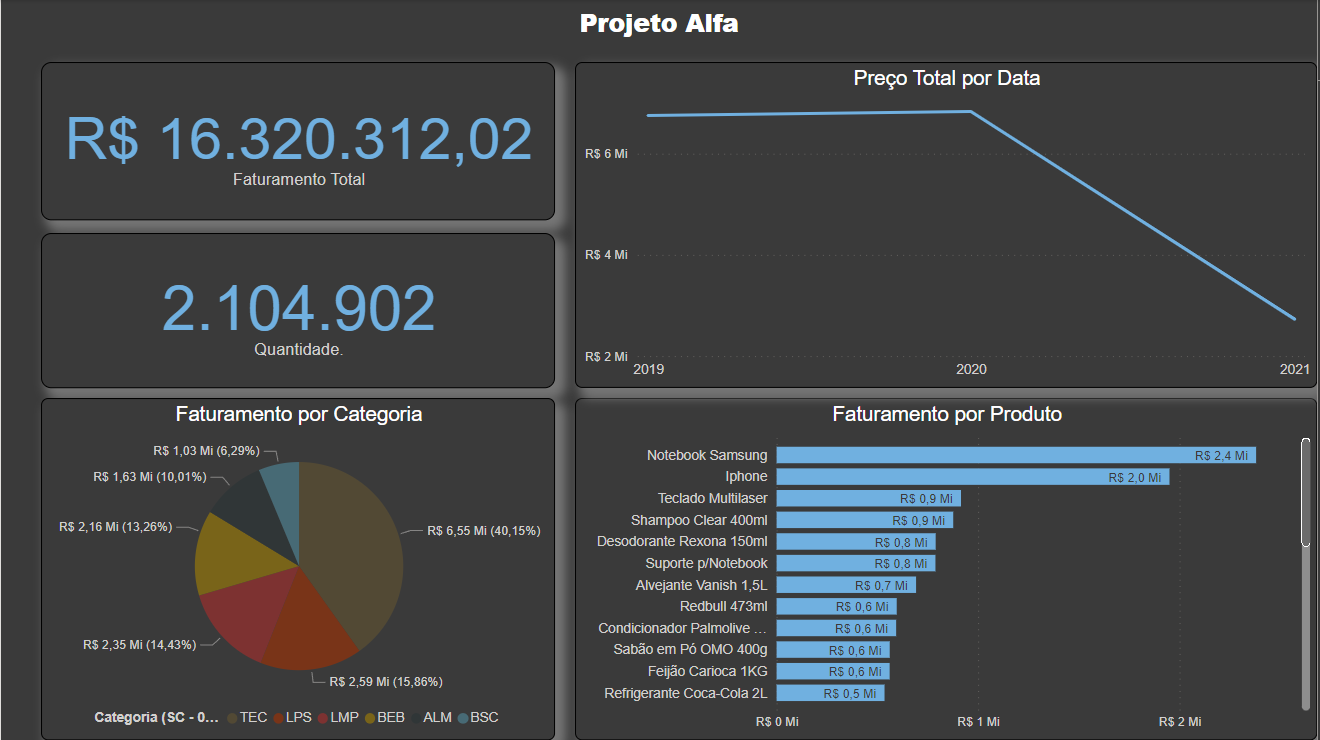

The page's visual inventory and layout, read from the dashboard file:
{"tool":"powerbi","page":{"name":"Página 1","canvas":[1280,720],"ordinal":0},"visuals":[{"type":"card","fields":{"Values":["Sum(Base_Produtos.Preço Total)"]},"box":[38.9,60.3,499.9,153.7],"z":0},{"type":"card","fields":{"Values":["Sum(Base_Produtos.Quantidade.)"]},"box":[38.9,226.6,499.9,150.8],"z":1000},{"type":"barChart","title":"Faturamento por Produto","fields":{"Y":["Sum(Base_Produtos.Preço Total)"],"Category":["Base_Produtos.Nome"]},"box":[558.3,387.1,721.7,332.6],"z":2000},{"type":"pieChart","title":"Faturamento por Categoria","fields":{"Category":["Base_Produtos.Categoria (SC - 001)"],"Y":["Sum(Base_Produtos.Preço Total)"]},"box":[38.9,387.1,499.9,332.6],"z":3000},{"type":"lineChart","title":"Preço Total por Data","fields":{"Category":["Base_Produtos.Data de Venda.Variation.Date Hierarchy.Year","Base_Produtos.Data de Venda.Variation.Date Hierarchy.Quarter","Base_Produtos.Data de Venda.Variation.Date Hierarchy.Month","Base_Produtos.Data de Venda.Variation.Date Hierarchy.Day"],"Y":["Sum(Base_Produtos.Preço Total)"]},"box":[558.3,60.3,721.7,317.1],"z":4000},{"type":"textbox","box":[0,0,1280,45.7],"z":5000}]}

Visuals, with their boxes in screenshot pixels (x1, y1, x2, y2), scaled from the page's 1280x720 canvas onto the 1320x740 screenshot:
card - Sum(Base_Produtos.Preço Total): (40,62,556,220)
card - Sum(Base_Produtos.Quantidade.): (40,233,556,388)
"Faturamento por Produto" barChart: (576,398,1319,739)
"Faturamento por Categoria" pieChart: (40,398,556,739)
"Preço Total por Data" lineChart: (576,62,1319,388)
textbox: (0,0,1319,47)
